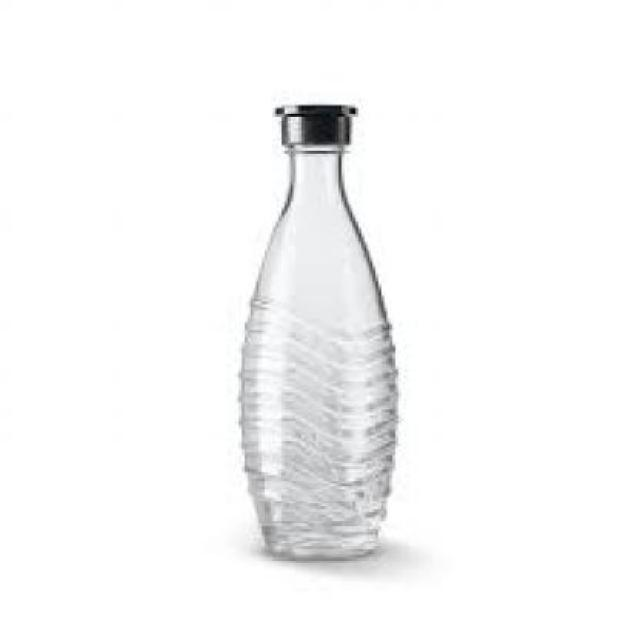kaca: (237, 137, 392, 560)
